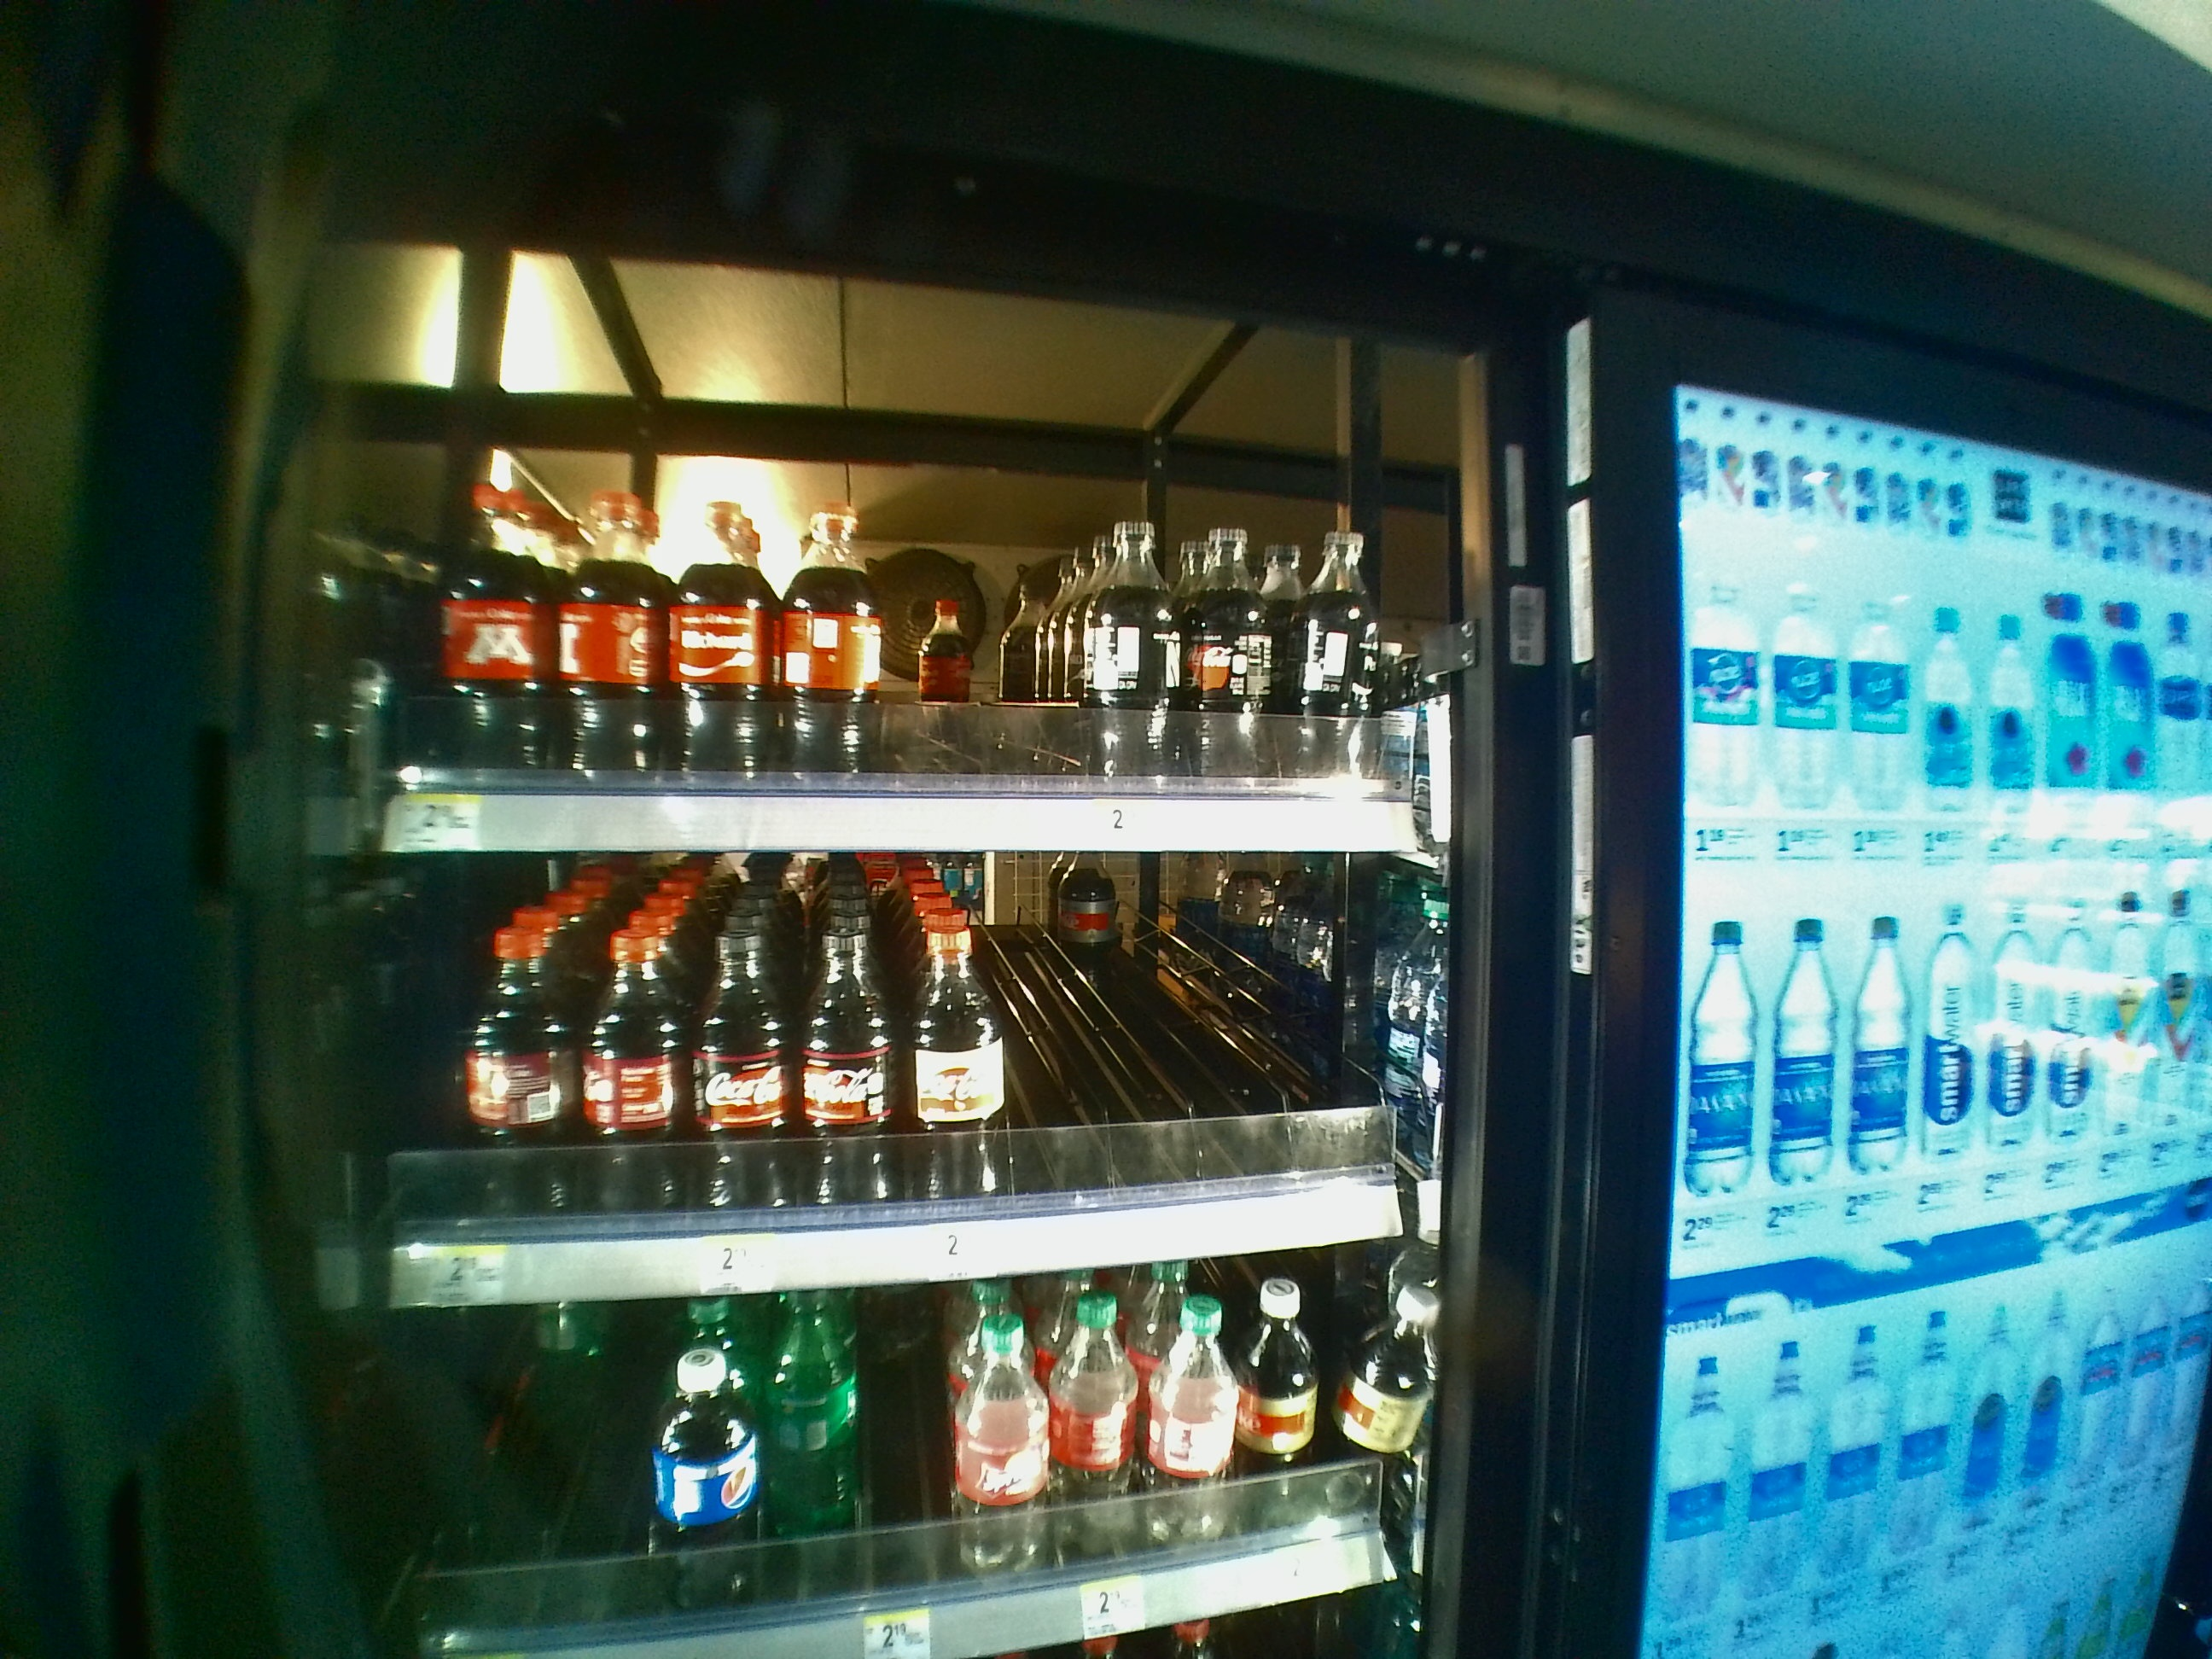shelf: (366, 364, 1456, 852), (369, 868, 1453, 1314)
